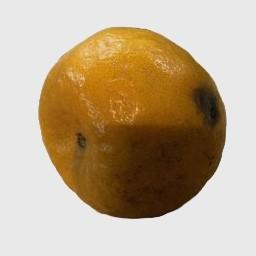Unripe: (39, 28, 229, 216)
